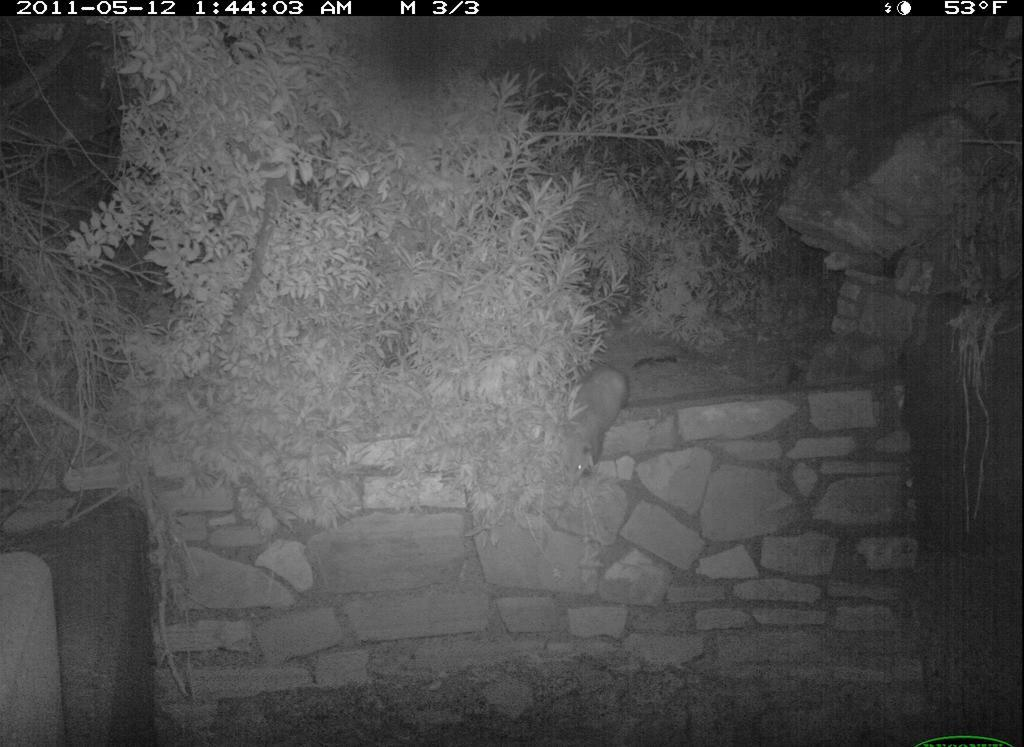opossum: (537, 329, 635, 501)
